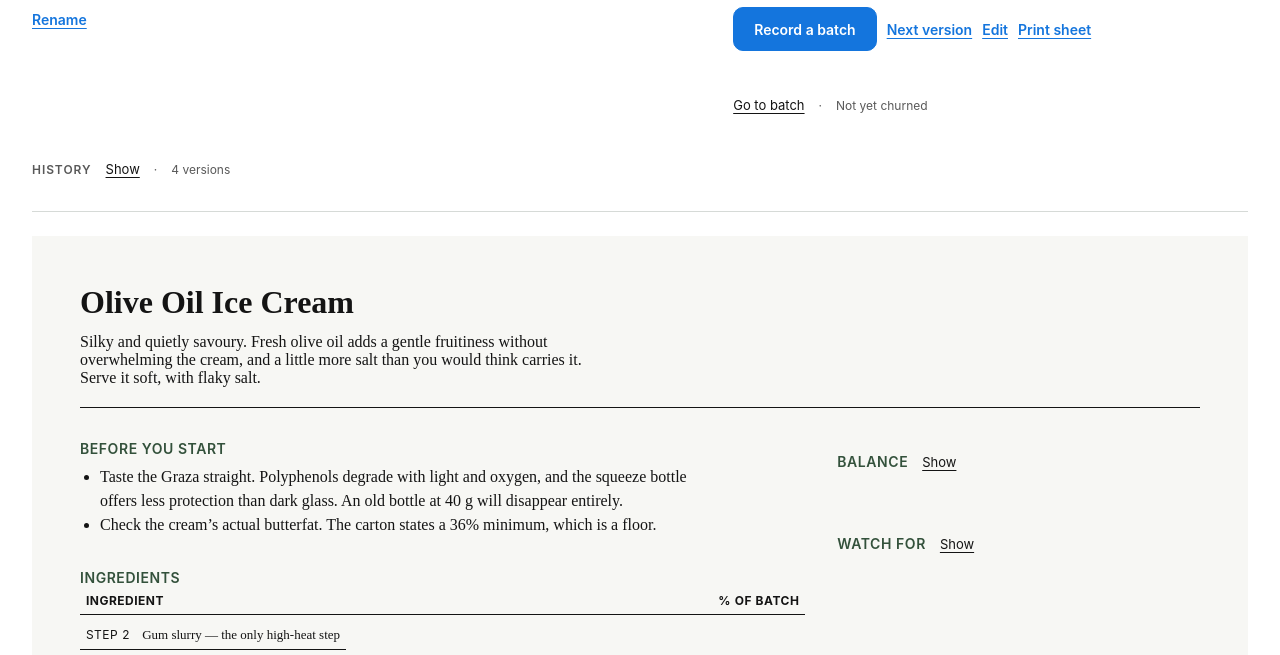
the Next version pen: the section is always drawn, and its notes are edited from there (decision 36, pen E2) › Olive Oil v1: Tab order by document order puts the notes after the Sheet title and description and before the first ingredient input
This screenshot has width=1280, height=655.
Click the button "Next version" at (929, 29), box left=887, top=7, right=972, bottom=51
(page scrolled)
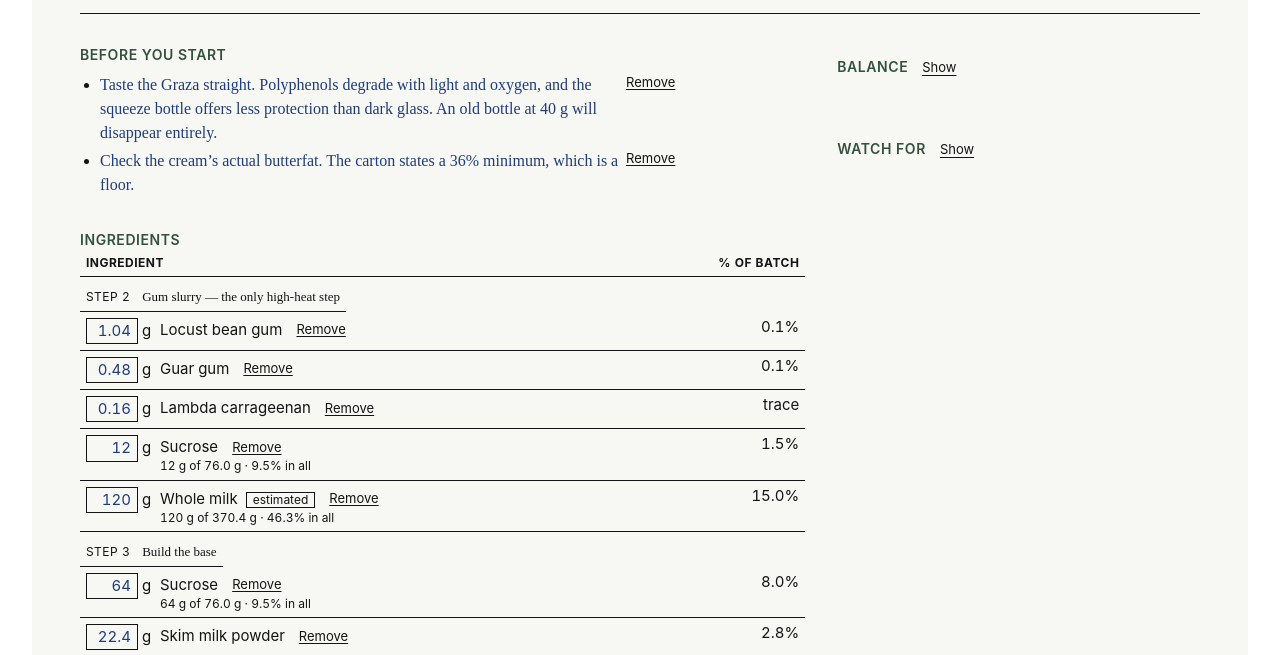
Now the field named "Locust bean gum, grams" is shown, box left=86, top=318, right=138, bottom=344
